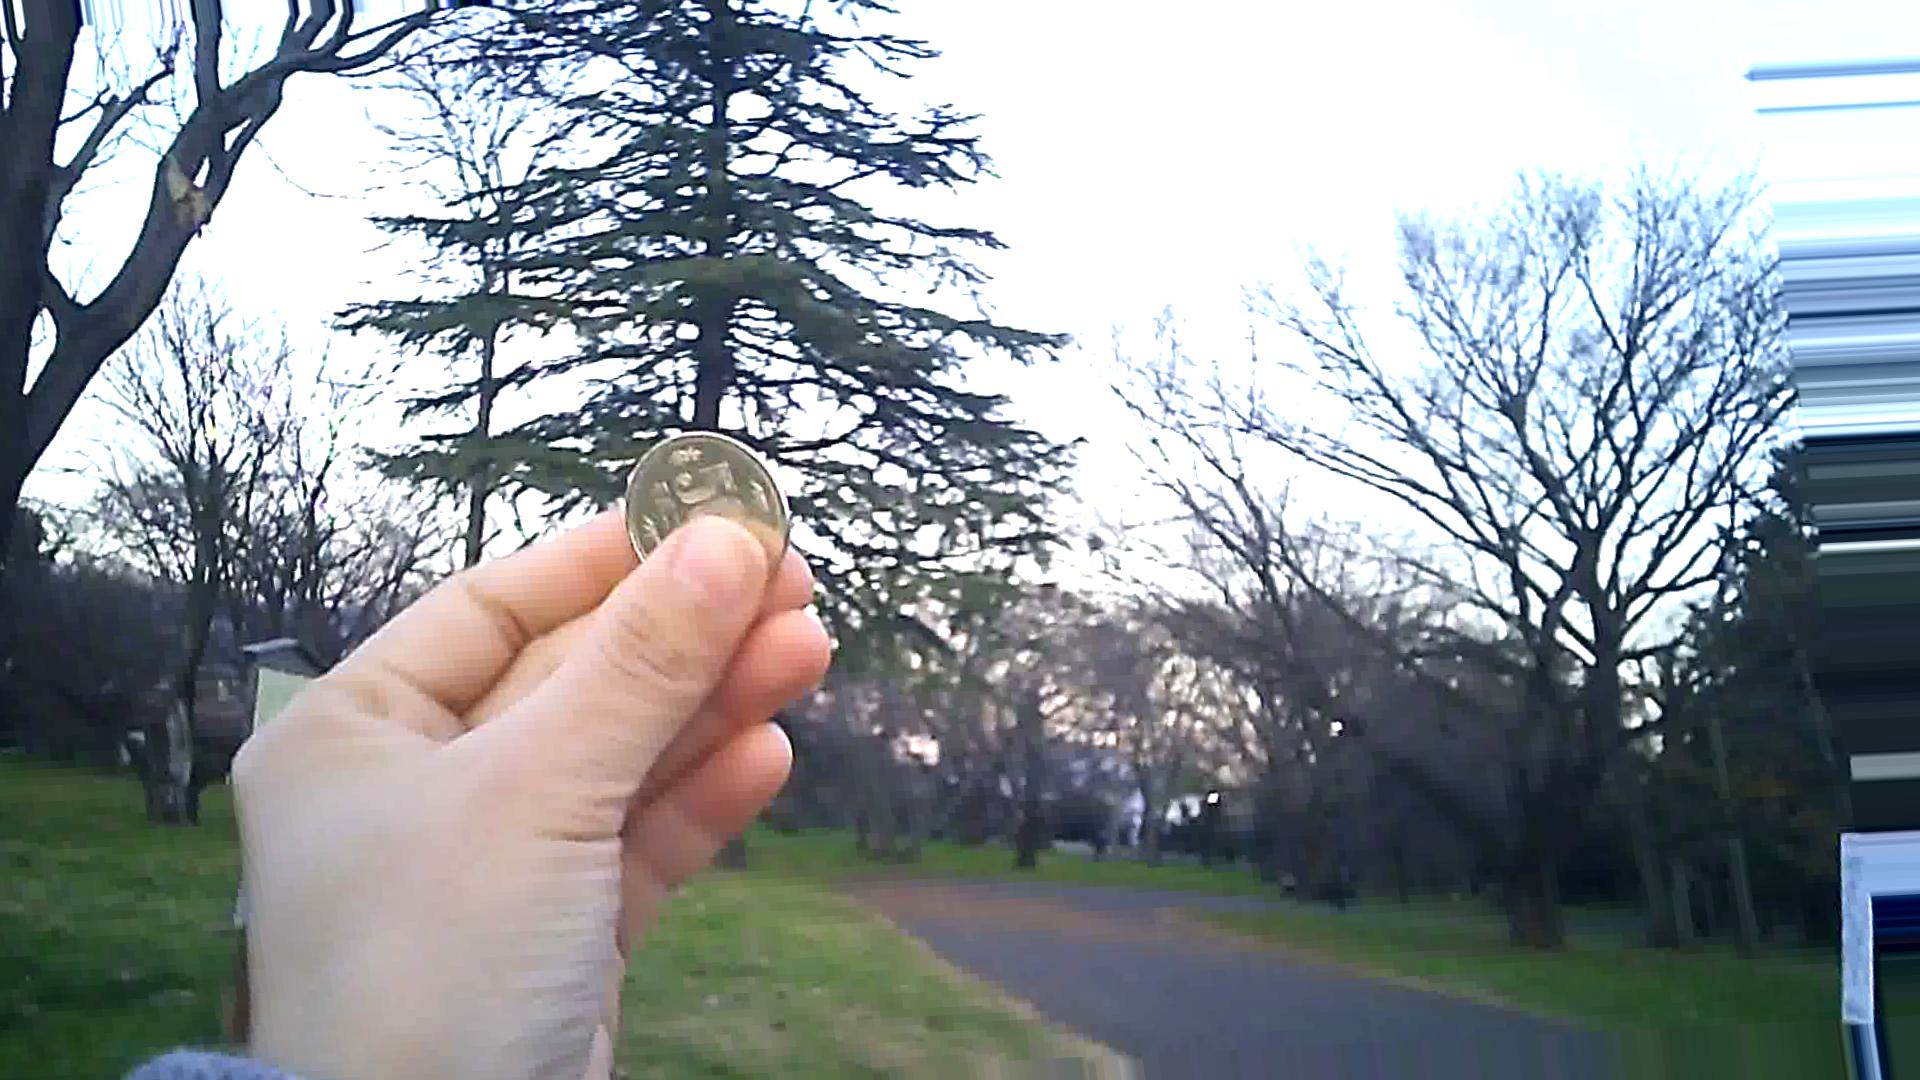500 Yen: (608, 411, 793, 603)
